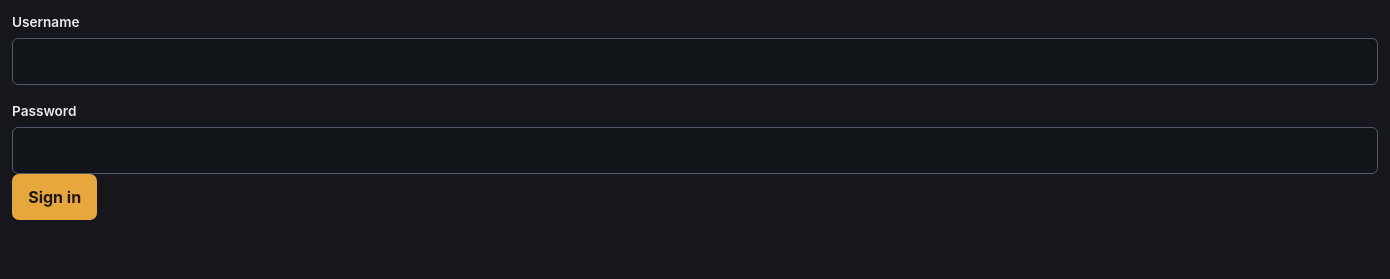
login form in Chromium › uses generic credential feedback, preserves username, and clears a rejected password
The width and height of the screenshot is (1390, 279).
Note: screen owns the failed credential draft and its accessible error announcement.
Type "alice" into the field labelled "Username". click: (695, 61)
box: [12, 38, 1378, 85]
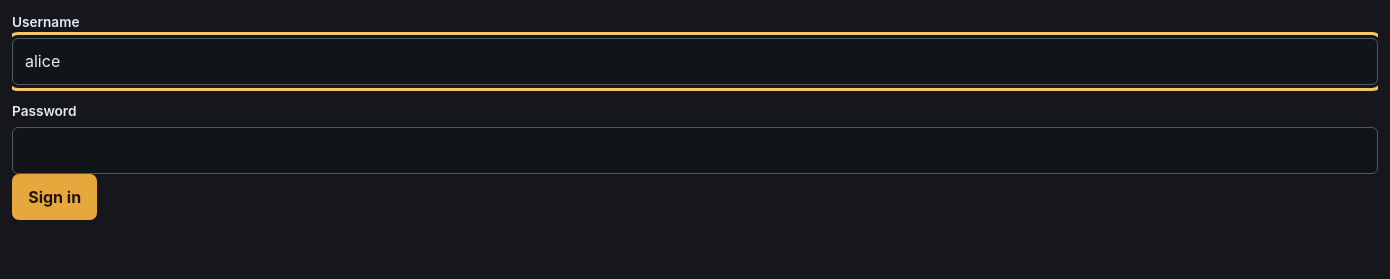
Type "incorrect" into the password field labelled "Password". click: (695, 150)
box: [12, 127, 1378, 174]
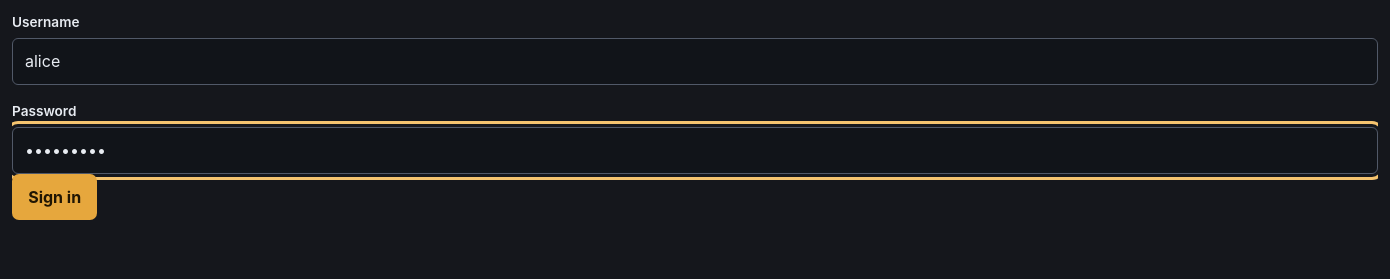
Click the button "Sign in". click: (55, 197)
box: [12, 174, 97, 220]
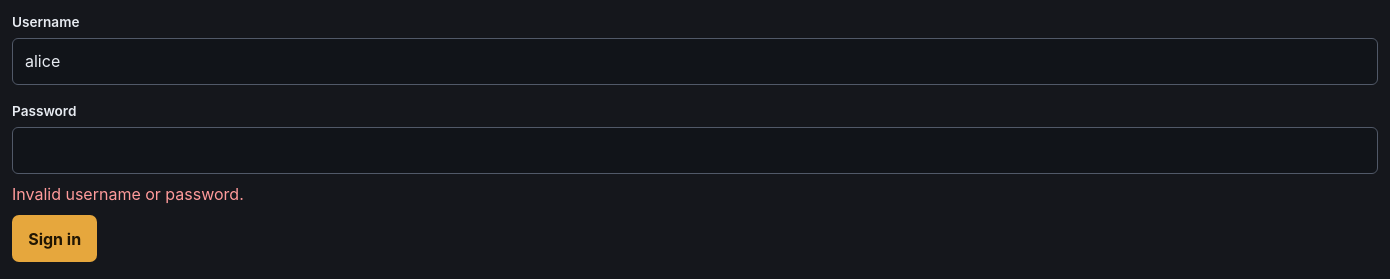
Expected: the button "Sign in" is enabled, [12, 215, 97, 262]
Expected: the message reads "Invalid username or password.", [12, 184, 244, 204]
Expected: the password field labelled "Password" is empty, [12, 127, 1378, 174]
